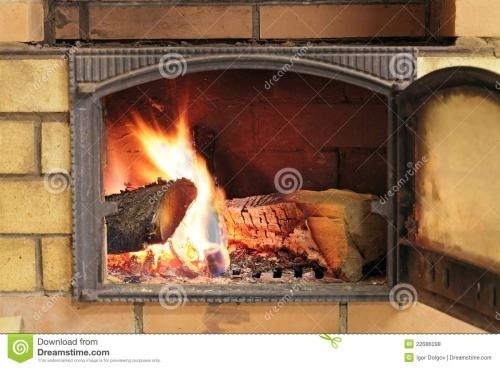fire: (108, 103, 232, 272)
